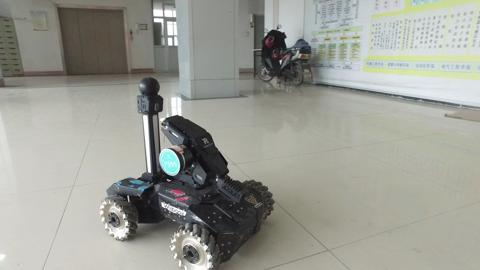chariot: (83, 73, 288, 270)
